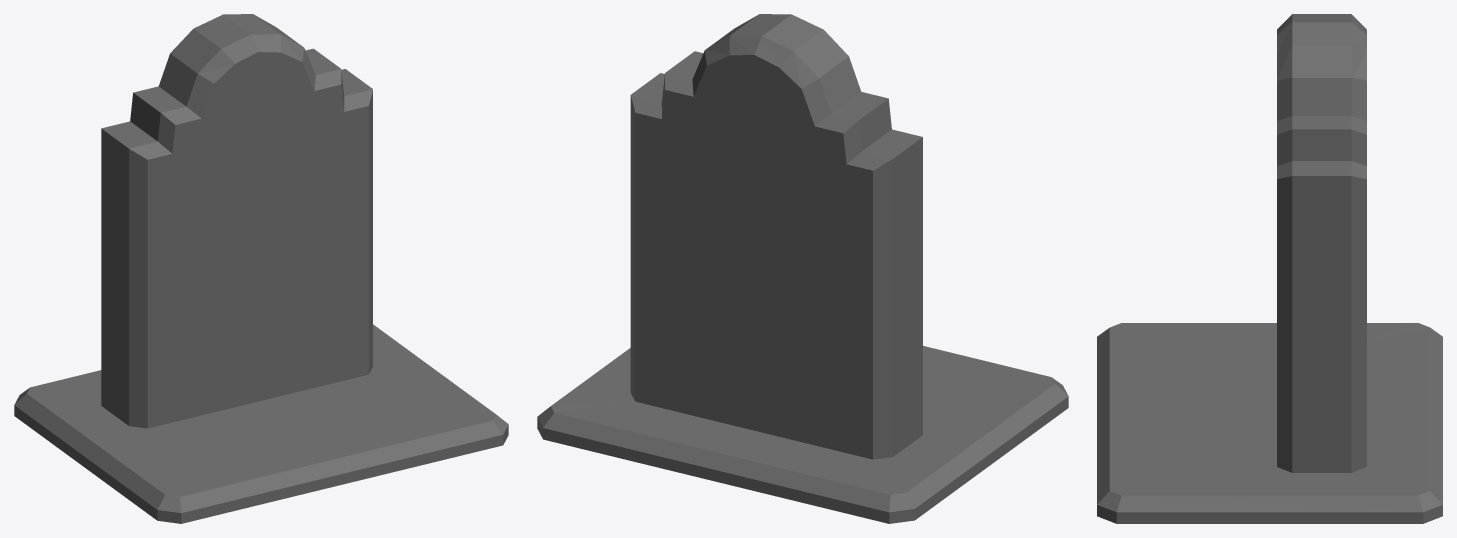
The model's file is Gravestone_3.glb.
3 renders of one model, left to right at view 1: azimuth 30°, elevation 25°; view 2: azimuth 150°, elevation 25°; view 3: azimuth 270°, elevation 25°, orthographic. The views are drawn at different scales.
Bounding box in the file's own units: 35.96 × 37.5 × 28.66.
1 material, 1 textured.
